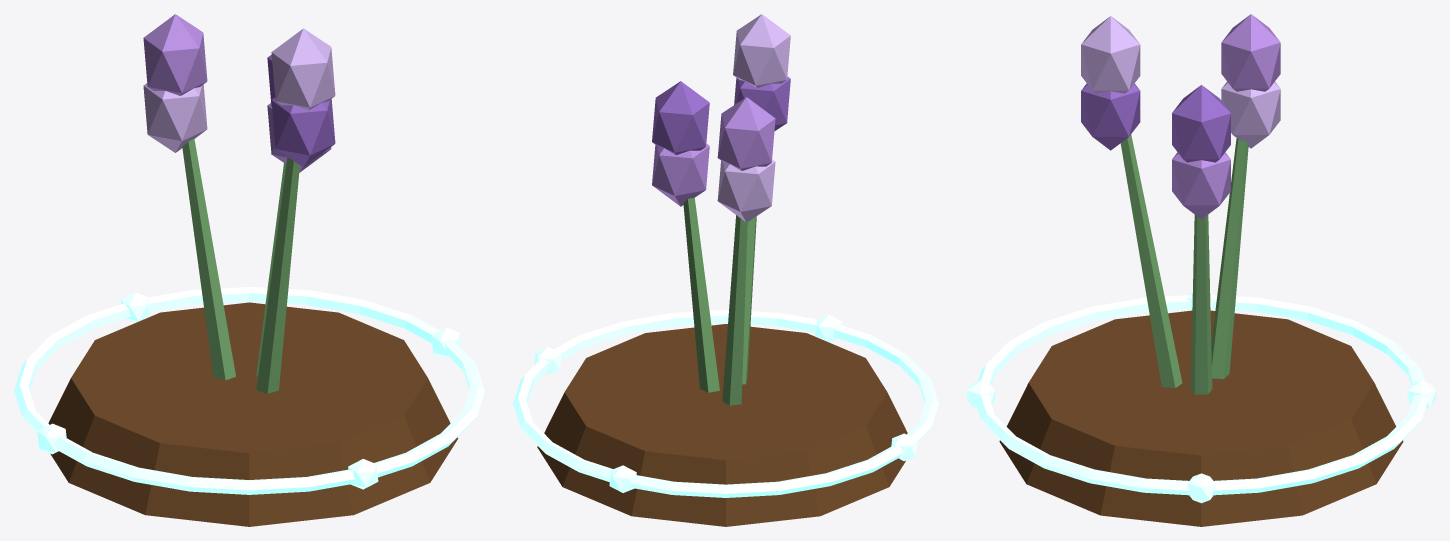
The model's file is seedling.glb.
3 views of the same model, side by side, from view 1: azimuth 30°, elevation 25°; view 2: azimuth 150°, elevation 25°; view 3: azimuth 270°, elevation 25° (orthographic). The views are drawn at different scales.
Visible parts, largest first — view 1: Lavender_Soil, Chrono_Energy_Ring, Lavender_Stem_02, Lavender_Stem_03, Lavender_Bloom_03_1, Lavender_Bloom_02_1, Lavender_Bloom_03_2, Lavender_Bloom_02_2, Chrono_Hour_Marker_04, Lavender_Stem_01, Chrono_Hour_Marker_02, Chrono_Hour_Marker_03 (+1 smaller); view 2: Lavender_Soil, Chrono_Energy_Ring, Lavender_Bloom_02_1, Lavender_Bloom_03_1, Lavender_Bloom_01_1, Lavender_Stem_01, Lavender_Stem_02, Lavender_Bloom_02_2, Lavender_Bloom_01_2, Lavender_Bloom_03_2, Lavender_Stem_03, Chrono_Hour_Marker_02 (+1 smaller); view 3: Lavender_Soil, Chrono_Energy_Ring, Lavender_Stem_03, Lavender_Stem_02, Lavender_Bloom_02_1, Lavender_Bloom_03_1, Lavender_Bloom_01_1, Lavender_Stem_01, Lavender_Bloom_03_2, Lavender_Bloom_01_2, Lavender_Bloom_02_2, Chrono_Hour_Marker_01.
Boxes of the visible parts, x1,y1,x2,y2 form: Lavender_Soil: (48, 302, 457, 526); Chrono_Energy_Ring: (14, 287, 484, 494); Lavender_Stem_02: (182, 139, 235, 380); Lavender_Stem_03: (256, 157, 299, 393); Lavender_Bloom_03_1: (271, 28, 335, 110); Lavender_Bloom_02_1: (143, 14, 207, 95); Lavender_Bloom_03_2: (271, 97, 335, 167); Lavender_Bloom_02_2: (143, 83, 207, 152); Chrono_Hour_Marker_04: (348, 459, 378, 489); Lavender_Stem_01: (256, 163, 286, 376); Chrono_Hour_Marker_02: (120, 292, 150, 322); Chrono_Hour_Marker_03: (37, 423, 66, 454); Lavender_Soil: (537, 324, 907, 526); Chrono_Energy_Ring: (513, 310, 938, 497); Lavender_Bloom_02_1: (717, 97, 775, 170); Lavender_Bloom_03_1: (733, 14, 790, 88); Lavender_Bloom_01_1: (652, 81, 709, 155); Lavender_Stem_01: (683, 197, 719, 392); Lavender_Stem_02: (722, 215, 747, 405); Lavender_Bloom_02_2: (717, 159, 775, 222); Lavender_Bloom_01_2: (652, 143, 709, 206); Lavender_Bloom_03_2: (734, 76, 790, 131); Lavender_Stem_03: (742, 216, 756, 384); Chrono_Hour_Marker_02: (609, 465, 636, 492); Lavender_Soil: (999, 310, 1403, 526); Chrono_Energy_Ring: (975, 295, 1427, 495); Lavender_Stem_03: (1120, 134, 1182, 387); Lavender_Stem_02: (1211, 138, 1248, 378); Lavender_Bloom_02_1: (1221, 14, 1280, 91); Lavender_Bloom_03_1: (1081, 16, 1140, 93); Lavender_Bloom_01_1: (1172, 85, 1230, 162); Lavender_Stem_01: (1190, 215, 1212, 394); Lavender_Bloom_03_2: (1081, 83, 1140, 150); Lavender_Bloom_01_2: (1172, 152, 1230, 219); Lavender_Bloom_02_2: (1221, 81, 1280, 148); Chrono_Hour_Marker_01: (1187, 473, 1215, 503).
Bounding box in the file's own units: 1.01 × 1.02 × 1.01.
